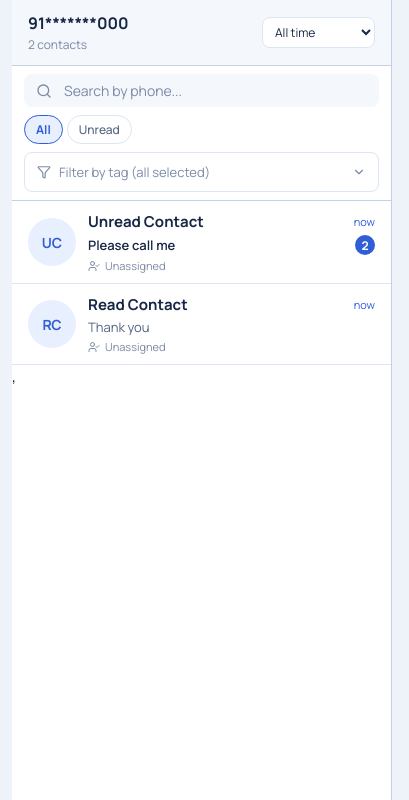
ContactList unread filter › combines search with the unread filter
The image size is (409, 800).
Expected: the text "Unread Contact" is shown, [88, 211, 204, 232]
Click the button "Unread" at point(99, 130), box [67, 115, 132, 144]
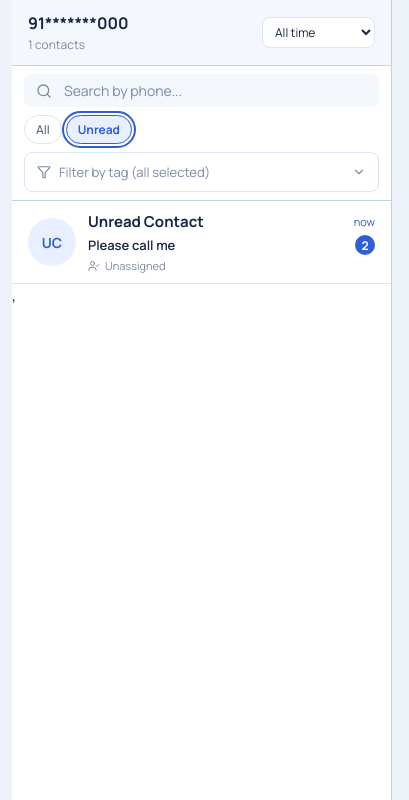
Type "2222" into the field with placeholder "Search by phone..." at point(214, 90), box [62, 80, 367, 101]
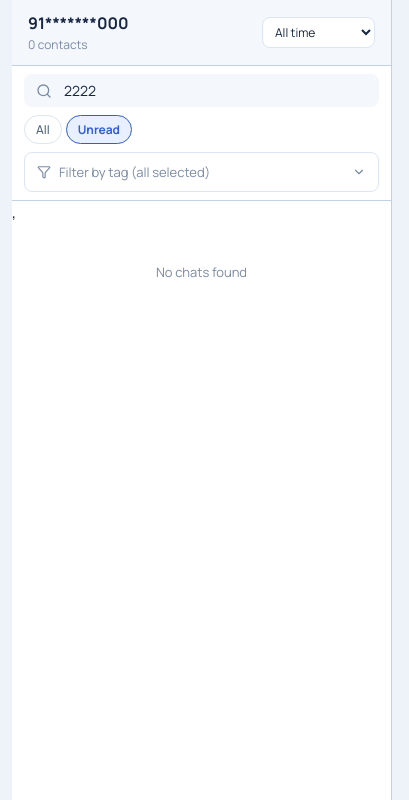
Now the text "No chats found" is shown, box [156, 263, 247, 281]
Clear the field with placeholder "Search by phone..." at point(214, 90), box [62, 80, 367, 101]
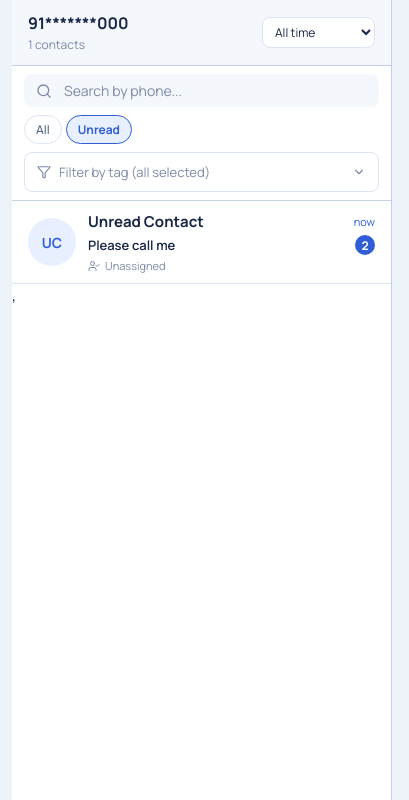
Now the text "Unread Contact" is shown, box [88, 211, 204, 232]
